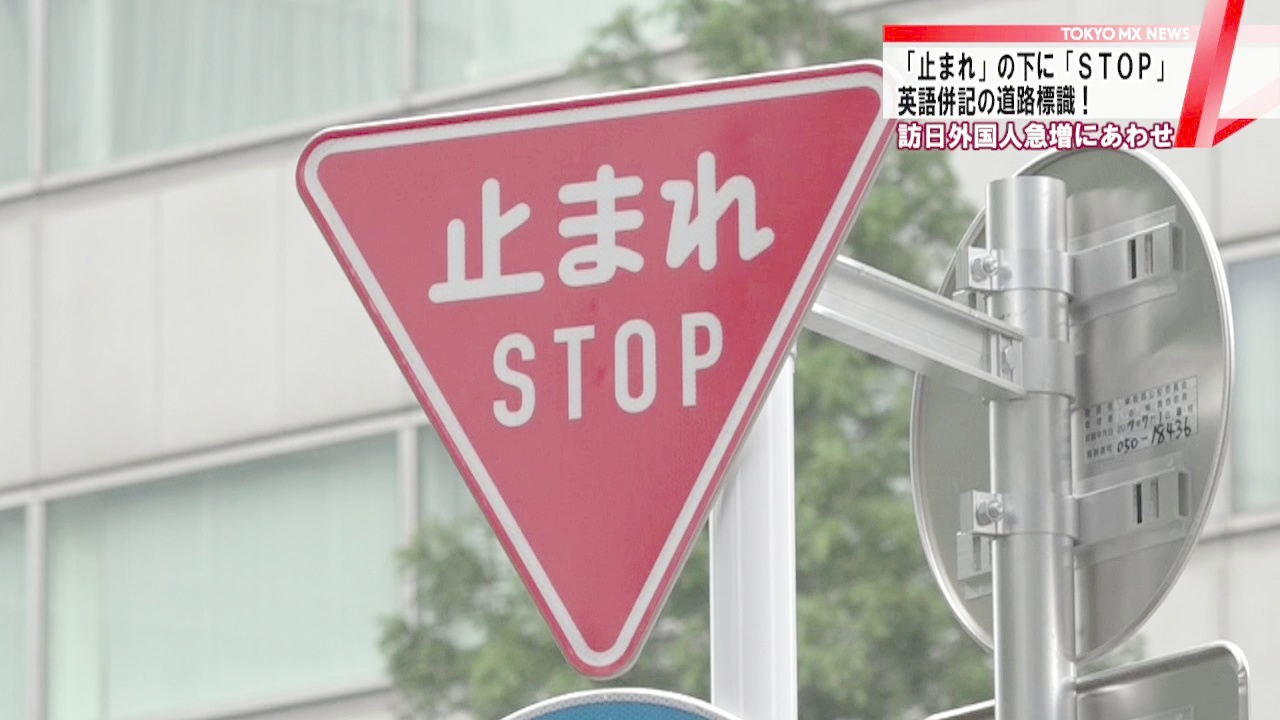Regulatory_sign_triangle: (293, 62, 918, 683)
